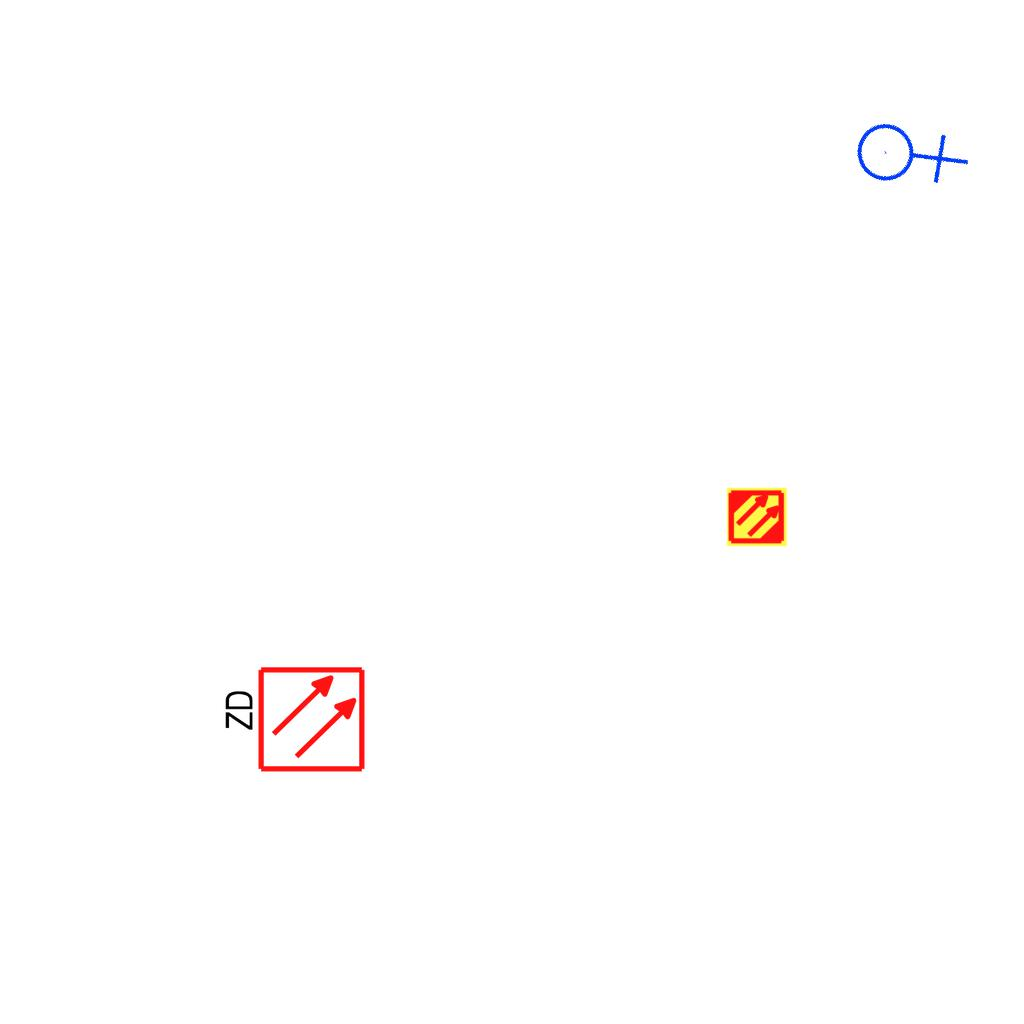ASR_Ansaugrauchmelder: (726, 486, 788, 548)
Elektroanschluss_allgemein_230V_Geraeteanschlussdose_230V: (838, 82, 975, 220)
ZD_Melder_in_Zwischendecke_mit_Revisionsoeffnung_mind_40_x_40_cm: (218, 664, 367, 778)
